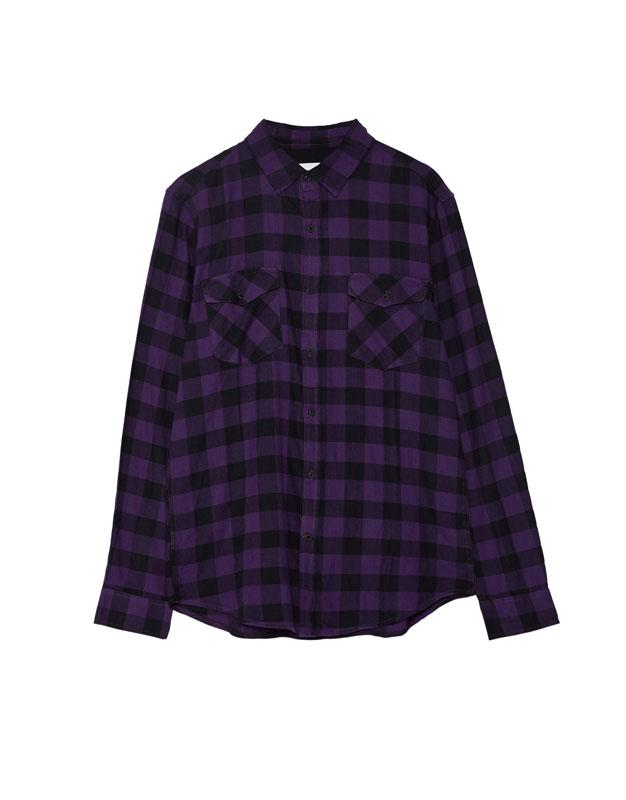teeshirt: (89, 106, 564, 659)
